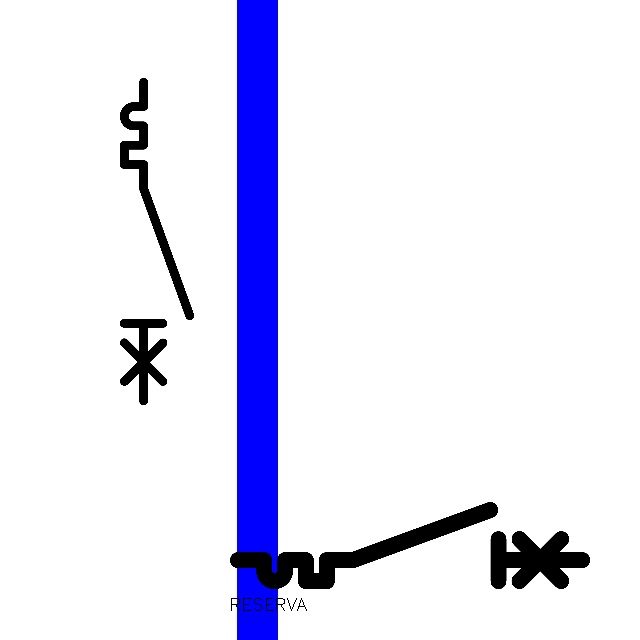interruptor_termomagnetico: (229, 501, 591, 590), (116, 74, 198, 409)
